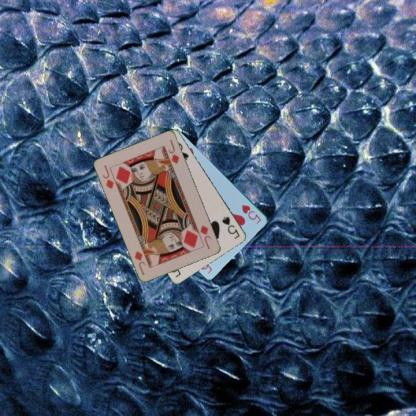5h: (240, 202, 262, 225)
5s: (219, 214, 241, 240)
Jd: (100, 162, 116, 191), (198, 222, 212, 251)
